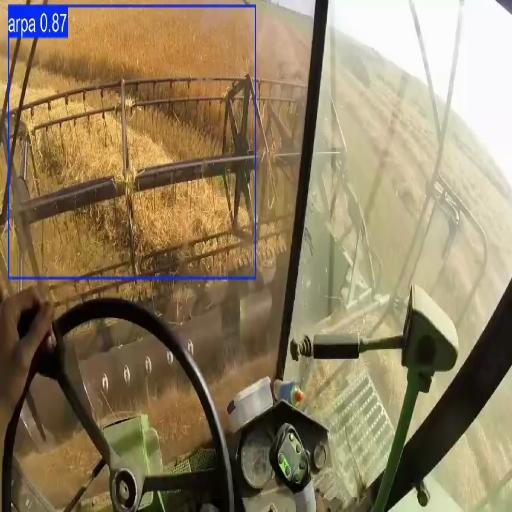arpa: (25, 7, 254, 101), (127, 102, 223, 168), (50, 112, 121, 184), (257, 26, 291, 79), (126, 81, 187, 101), (176, 185, 199, 228), (136, 189, 177, 211)
